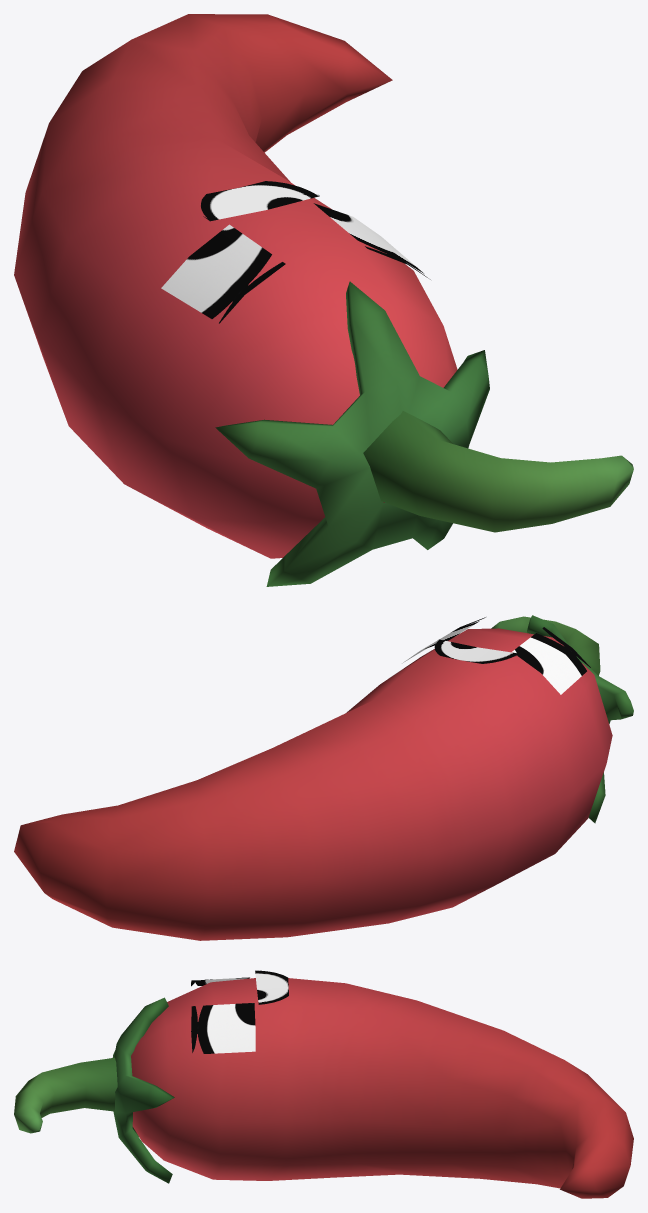
Rendered from pepper_red_chili_smile.fbx.
3 views of the same model, one above another, from view 1: azimuth 30°, elevation 25°; view 2: azimuth 150°, elevation 25°; view 3: azimuth 270°, elevation 25° (orthographic). The views are drawn at different scales.
Parts seen in each view (by area): view 1: pepper_chili; view 2: pepper_chili; view 3: pepper_chili.
Part boxes in pixels (<box>): pepper_chili: <box>14,14,633,586</box>; pepper_chili: <box>14,615,633,940</box>; pepper_chili: <box>14,970,633,1198</box>.
Size of the model in its own units: 21.65 by 12.21 by 37.13.
